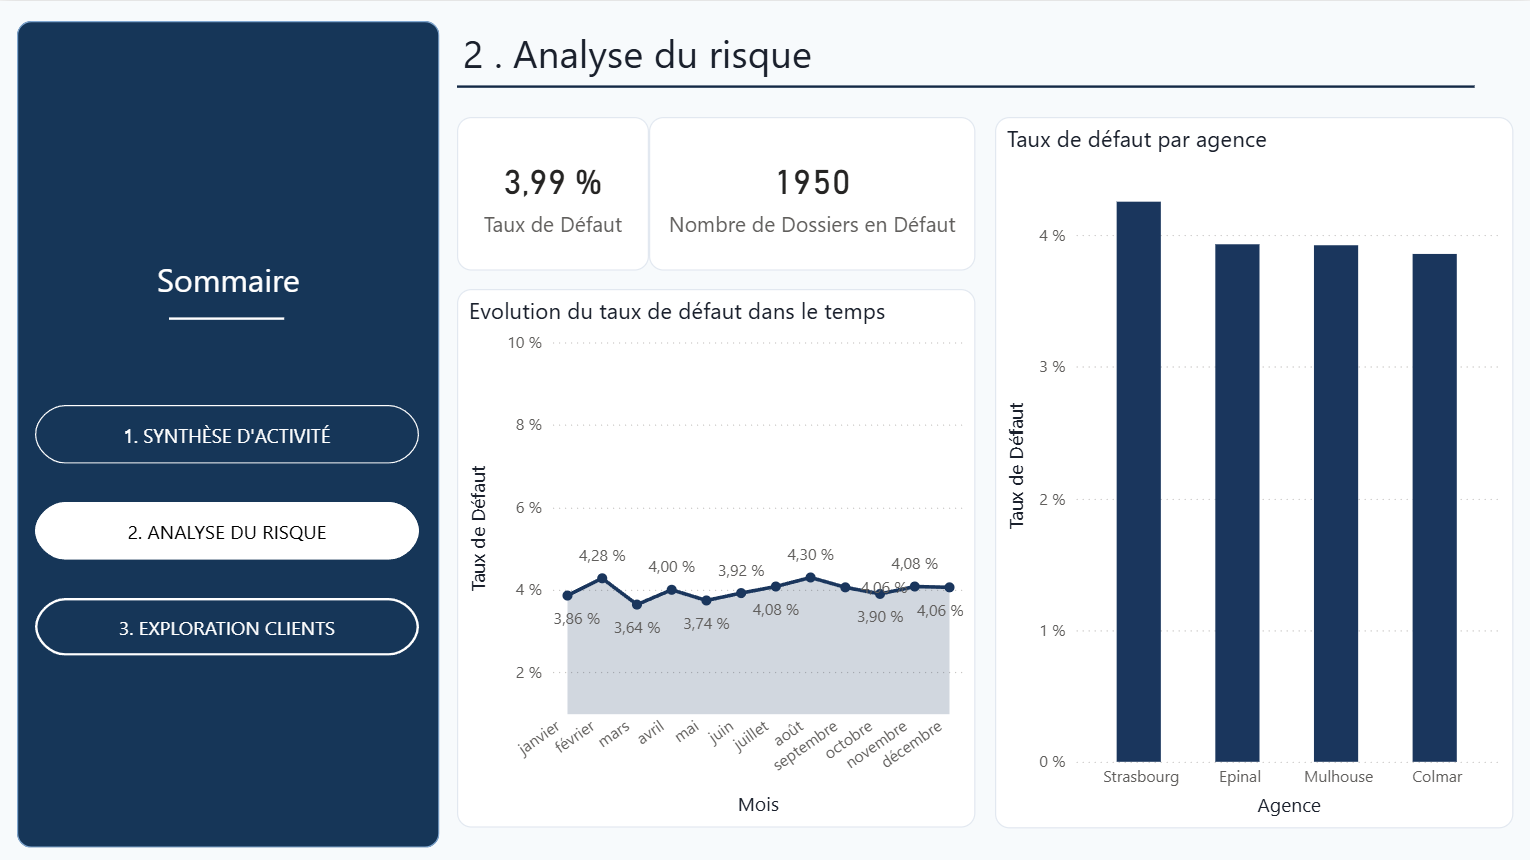

What the dashboard file says about the page in this screenshot:
{"tool":"powerbi","page":{"name":"2. Analyse du risque","canvas":[1280,720],"ordinal":2},"visuals":[{"type":"card","fields":{"Values":["referentiel_credits.Taux de Défaut"]},"box":[384,96,160,128],"z":0},{"type":"card","fields":{"Values":["referentiel_credits.Nombre de Dossiers en Défaut"]},"box":[544,96,272,128],"z":1000},{"type":"lineChart","title":"Evolution du taux de défaut dans le temps","fields":{"Y":["referentiel_credits.Taux de Défaut"],"Category":["suivi_mensuel_credits.Date_Mois.Variation.Hiérarchie de dates.Mois"]},"box":[384,240,432,448],"z":2000},{"type":"clusteredColumnChart","title":"Taux de défaut par agence","fields":{"Y":["referentiel_credits.Taux de Défaut"],"Category":["referentiel_credits.Agence"]},"box":[832,96,432,592],"z":3000},{"type":"textbox","box":[384,16,416,64],"z":4000},{"type":"shape","box":[384,64,848,16],"z":5000},{"type":"shape","box":[16,16,352,688],"z":6000},{"type":"actionButton","box":[32,336,320,48],"z":7000},{"type":"actionButton","box":[32,416,320,48],"z":8000},{"type":"actionButton","box":[32,496,320,48],"z":9000},{"type":"shape","box":[144,256,96,16],"z":10000},{"type":"textbox","box":[128,208,144,48],"z":11000}]}

Visuals, with their boxes in screenshot pixels (x1, y1, x2, y2), scaled from the page's 1280x720 canvas onto the 1530x860 screenshot:
card - referentiel_credits.Taux de Défaut: (459,115,650,268)
card - referentiel_credits.Nombre de Dossiers en Défaut: (650,115,975,268)
"Evolution du taux de défaut dans le temps" lineChart: (459,287,975,822)
"Taux de défaut par agence" clusteredColumnChart: (994,115,1511,822)
textbox: (459,19,956,96)
shape: (459,76,1473,96)
shape: (19,19,440,841)
actionButton: (38,401,421,459)
actionButton: (38,497,421,554)
actionButton: (38,592,421,650)
shape: (172,306,287,325)
textbox: (153,248,325,306)
